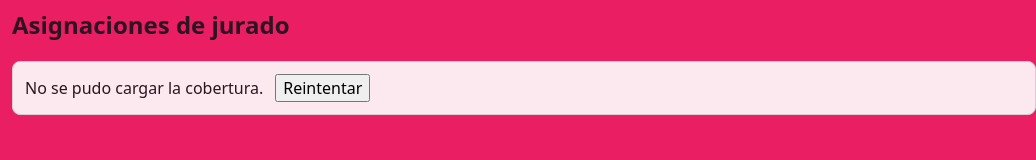
a failed assignment list can be retried without leaving the panel
Expected: the message reads "No se pudo cargar la cobertura.", [25,77,263,99]
Step 1. Click the button "Reintentar" → click(323, 88), box [275,74,370,102]
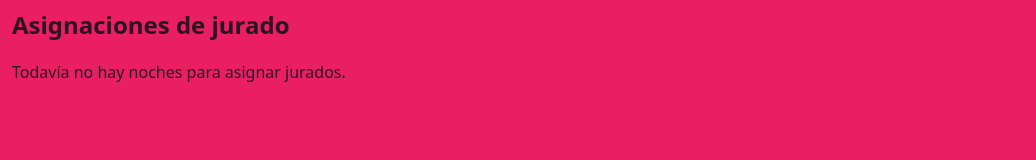
Now the text "Todavía no hay noches para asignar jurados." is shown, box [12,61,346,83]
Now the message "No se pudo cargar la cobertura." is gone
